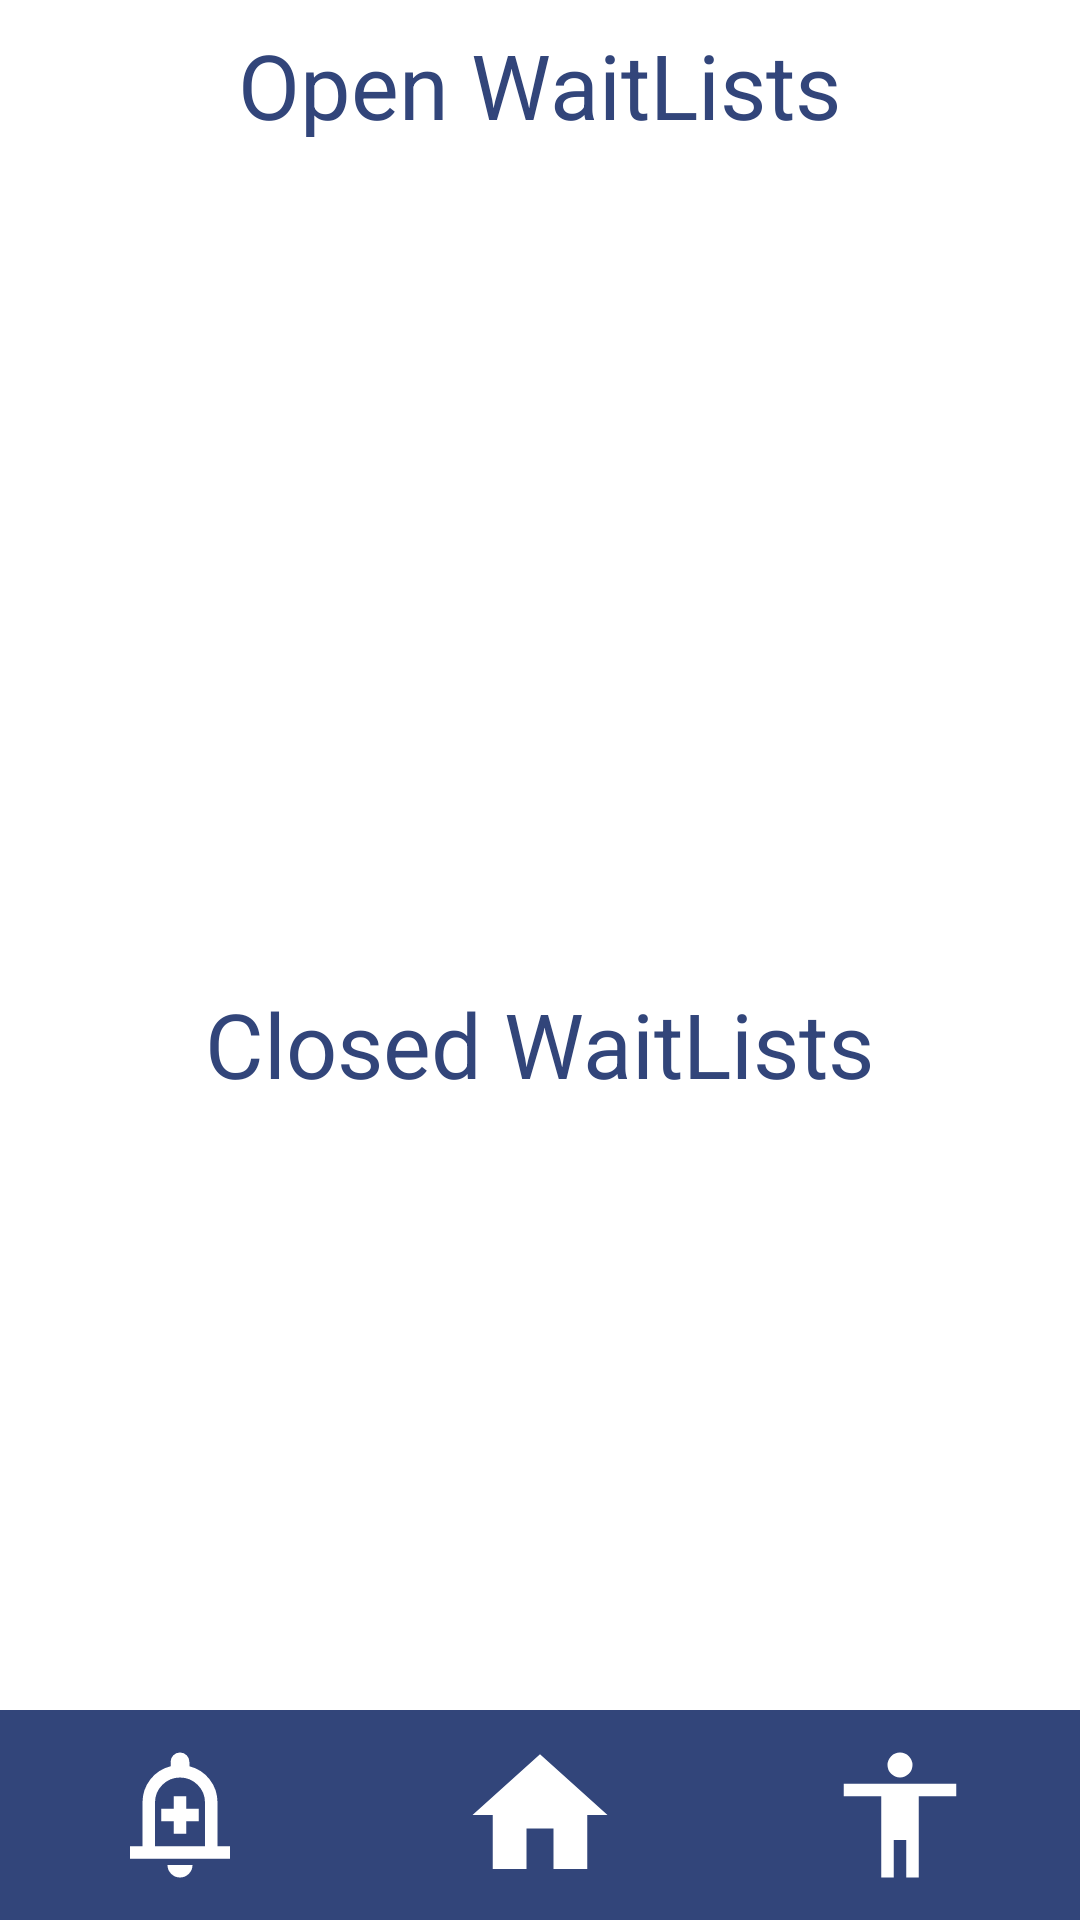

Where to tap for icons on this 1080px×1920px app screen, as [x,y]:
home: [540,1811]
notification: [180,1815]
profile: [900,1815]
